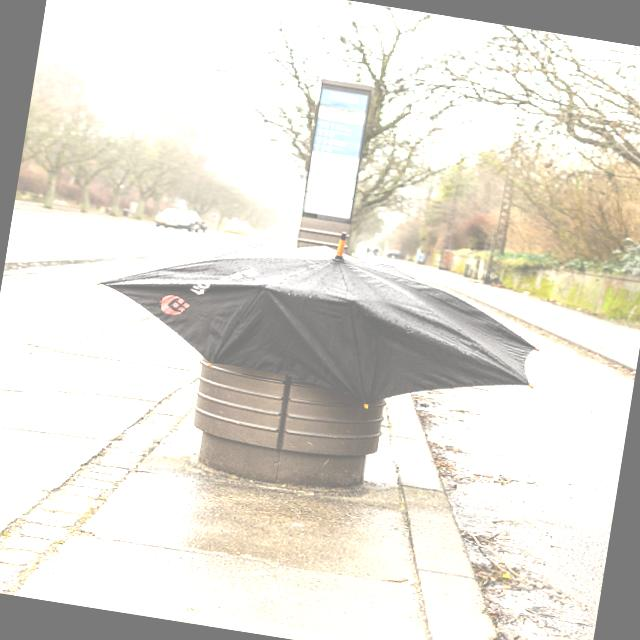Vehicle: (154, 205, 204, 234), (222, 219, 250, 237), (258, 228, 282, 242), (280, 234, 296, 244)
